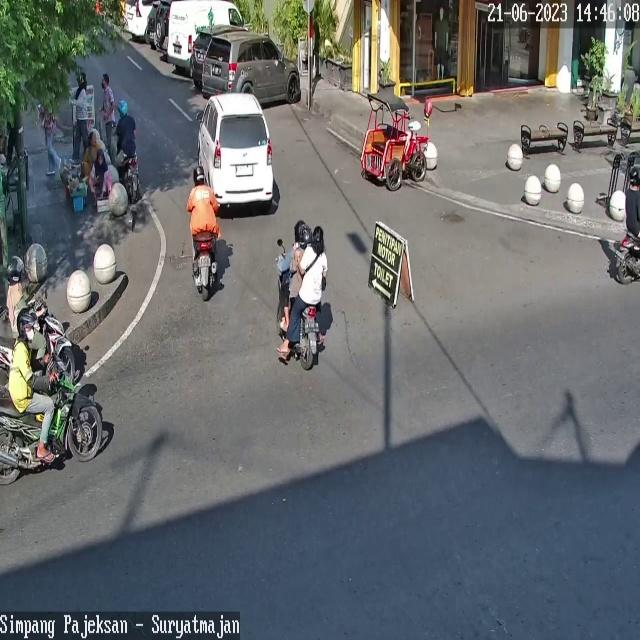bus: (0, 349, 103, 485), (0, 299, 78, 381), (276, 250, 324, 370), (193, 229, 219, 299), (612, 231, 640, 285)
motorcycle: (197, 93, 273, 204), (202, 31, 302, 105), (166, 0, 245, 67), (191, 28, 213, 80), (123, 0, 152, 36)
